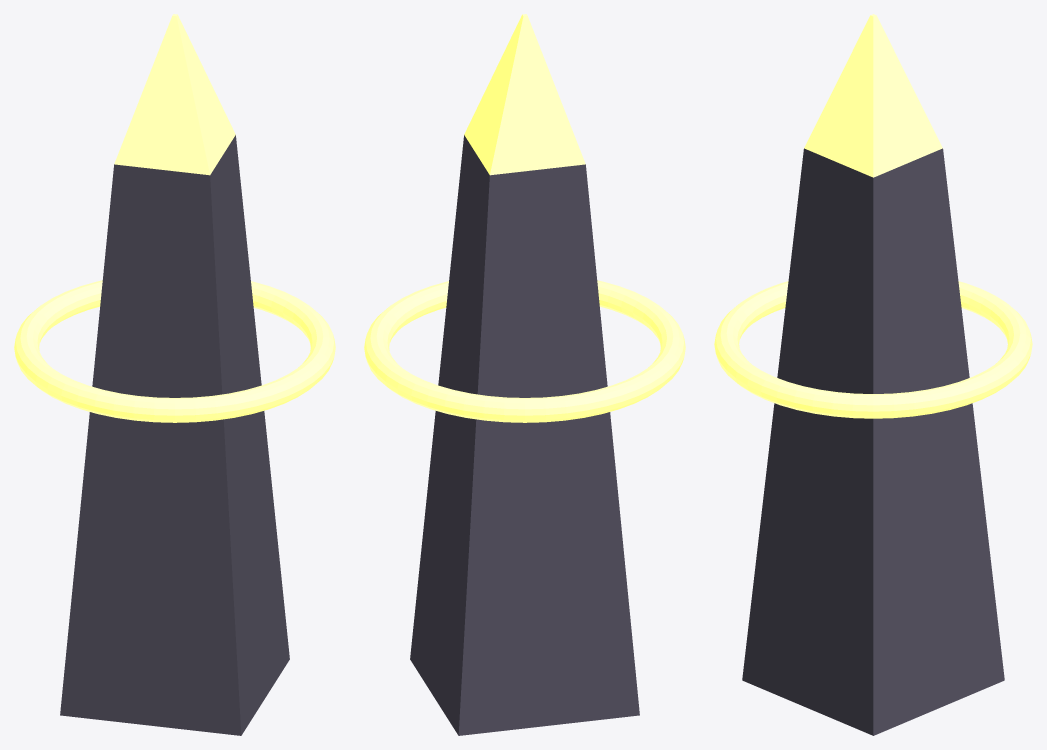
The model's file is covenant_obelisk.glb.
The picture shows the model from 3 angles, left to right: view 1: azimuth 30°, elevation 25°; view 2: azimuth 150°, elevation 25°; view 3: azimuth 270°, elevation 25°; orthographic projection.
Parts seen in each view (by area): view 1: ObeliskBody, FloatingRuneRing, ObeliskApex; view 2: ObeliskBody, FloatingRuneRing, ObeliskApex; view 3: ObeliskBody, FloatingRuneRing, ObeliskApex.
Boxes of the visible parts, x1,y1,x2,y2 form: ObeliskBody: [60, 135, 289, 735]; FloatingRuneRing: [14, 280, 335, 422]; ObeliskApex: [114, 14, 235, 175]; ObeliskBody: [410, 135, 639, 735]; FloatingRuneRing: [364, 280, 685, 422]; ObeliskApex: [464, 14, 585, 175]; ObeliskBody: [742, 148, 1004, 735]; FloatingRuneRing: [714, 281, 1032, 418]; ObeliskApex: [804, 14, 942, 177].
Size of the model in its own units: 2.06 by 4.75 by 2.06.
